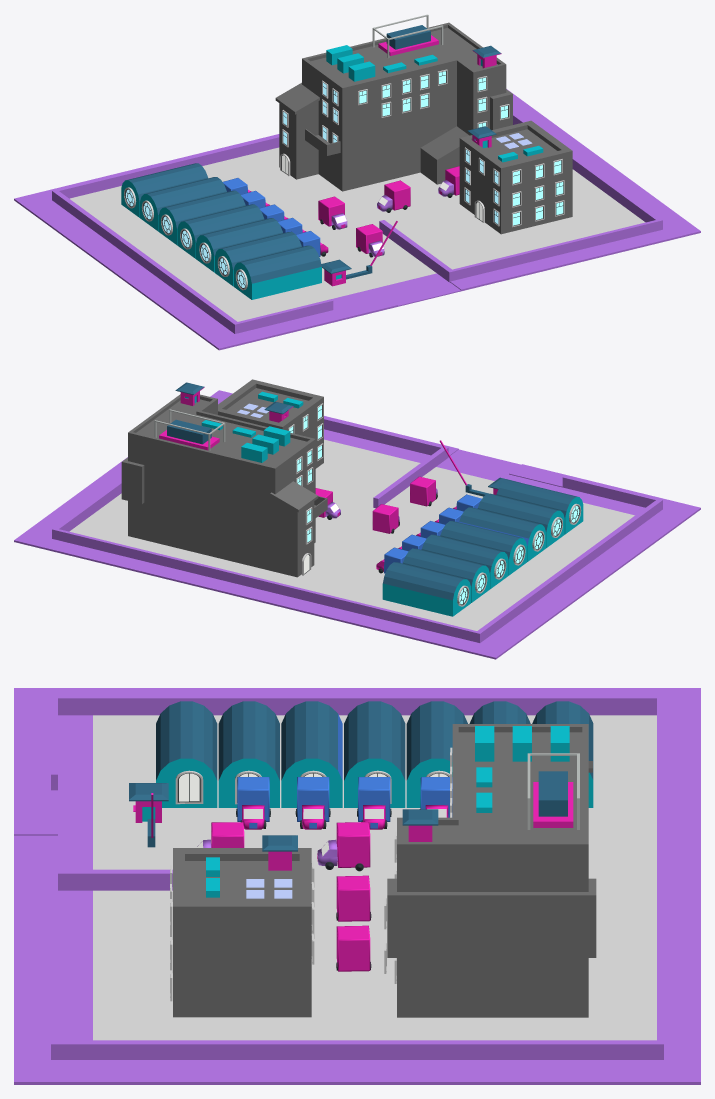
Rendered from factory.glb.
3 views of the same model, one above another, from view 1: azimuth 30°, elevation 25°; view 2: azimuth 150°, elevation 25°; view 3: azimuth 270°, elevation 25° (orthographic). The views are drawn at different scales.
Visible parts, largest first — view 1: Car_001.014, Factory_001.044, Factory_001.011, Factory_001.037, Factory_001.058, Factory_001.004, Factory_001.062, Factory_001.059, Factory_001.063, Factory_001.064, Factory_001.065, Factory_001.066 (+5 smaller); view 2: Factory_001.044, Factory_001.011, Car_001.014, Factory_001.037, Factory_001.066, Factory_001.010, Factory_001.063, Factory_001.064, Factory_001.062, Factory_001.065, Factory_001.059, Factory_001.058 (+5 smaller); view 3: Factory_001.044, Car_001.014, Factory_001.011, Factory_001.037, Factory_001.058, Factory_001.059, Factory_001.062, Factory_001.063, Factory_001.064, truck2, Car_001.003, Car_001.006 (+23 smaller).
Boxes of the visible parts, left/top/right/bottom form: Car_001.014: left=70, top=147, right=645, bottom=321; Factory_001.044: left=14, top=89, right=700, bottom=350; Factory_001.011: left=275, top=22, right=512, bottom=191; Factory_001.037: left=459, top=120, right=572, bottom=234; Factory_001.058: left=238, top=245, right=321, bottom=283; Factory_001.004: left=233, top=262, right=321, bottom=299; Factory_001.062: left=200, top=218, right=282, bottom=256; Factory_001.059: left=219, top=231, right=301, bottom=269; Factory_001.063: left=182, top=204, right=264, bottom=242; Factory_001.064: left=164, top=190, right=245, bottom=228; Factory_001.065: left=145, top=177, right=226, bottom=214; Factory_001.066: left=126, top=163, right=207, bottom=201; Factory_001.044: left=14, top=390, right=700, bottom=659; Factory_001.011: left=121, top=394, right=327, bottom=577; Car_001.014: left=69, top=439, right=634, bottom=630; Factory_001.037: left=218, top=379, right=323, bottom=468; Factory_001.066: left=383, top=562, right=465, bottom=600; Factory_001.010: left=382, top=579, right=470, bottom=616; Factory_001.063: left=440, top=521, right=522, bottom=559; Factory_001.064: left=421, top=534, right=503, bottom=572; Factory_001.062: left=459, top=507, right=541, bottom=545; Factory_001.065: left=403, top=548, right=484, bottom=586; Factory_001.059: left=477, top=493, right=558, bottom=531; Factory_001.058: left=496, top=480, right=577, bottom=517; Factory_001.044: left=14, top=688, right=700, bottom=1084; Car_001.014: left=93, top=715, right=656, bottom=1040; Factory_001.011: left=387, top=724, right=596, bottom=1017; Factory_001.037: left=173, top=848, right=311, bottom=1017; Factory_001.058: left=156, top=701, right=217, bottom=780; Factory_001.059: left=218, top=701, right=279, bottom=780; Factory_001.062: left=281, top=701, right=342, bottom=780; Factory_001.063: left=344, top=701, right=405, bottom=780; Factory_001.064: left=406, top=701, right=467, bottom=780; truck2: left=317, top=822, right=370, bottom=871; Car_001.003: left=295, top=777, right=330, bottom=829; Car_001.006: left=236, top=777, right=270, bottom=829.
Bounding box in the file's own units: 16.95 × 4.04 × 12.49.
